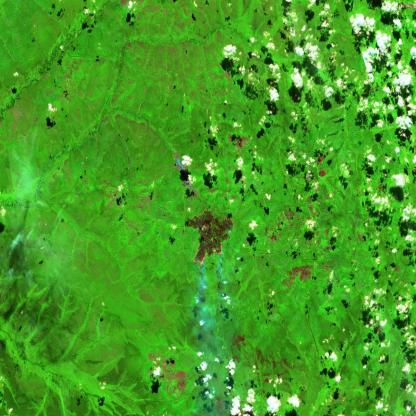fire: (187, 209, 238, 265)
